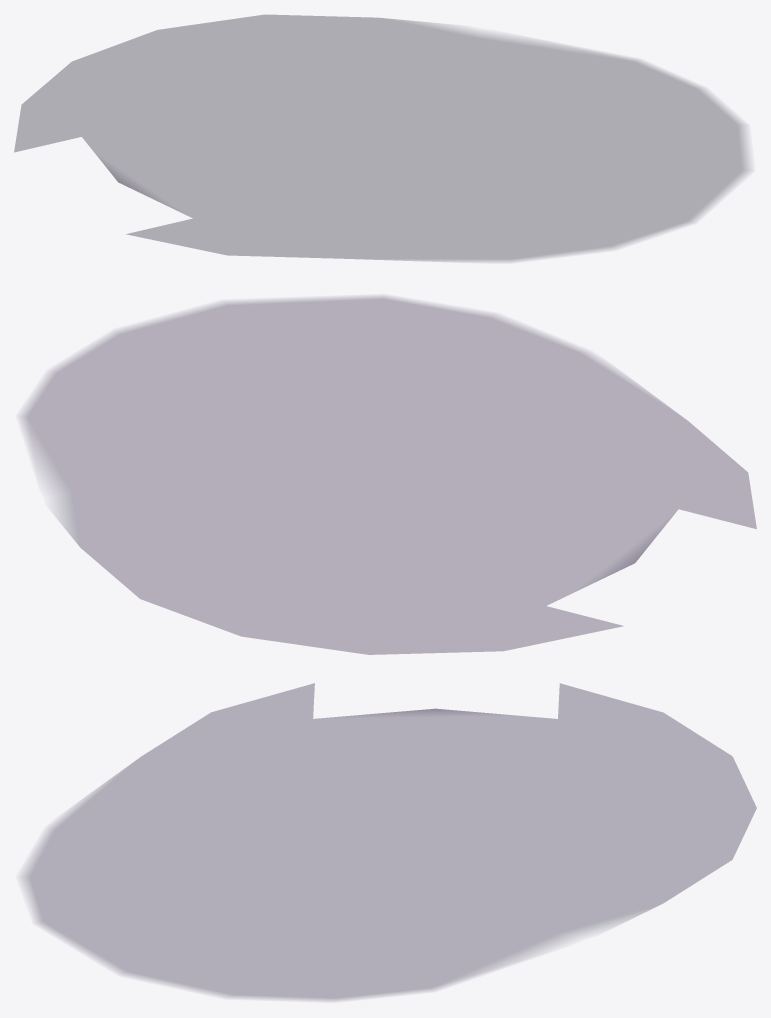
3 views of the same model, one above another, from view 1: azimuth 30°, elevation 25°; view 2: azimuth 150°, elevation 25°; view 3: azimuth 270°, elevation 25° (orthographic). The views are drawn at different scales.
Visible parts, largest first — view 1: Joint_0_Object_0; view 2: Joint_0_Object_0; view 3: Joint_0_Object_0.
Boxes of the visible parts, <box> form: Joint_0_Object_0: <box>14,14,749,261</box>; Joint_0_Object_0: <box>21,296,756,654</box>; Joint_0_Object_0: <box>22,683,756,1000</box>.
Size of the model in its own units: 355 by 2.01 by 352.
Materials: 1 (1 with a texture image).
